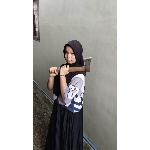Kapak: (49, 56, 95, 76)
